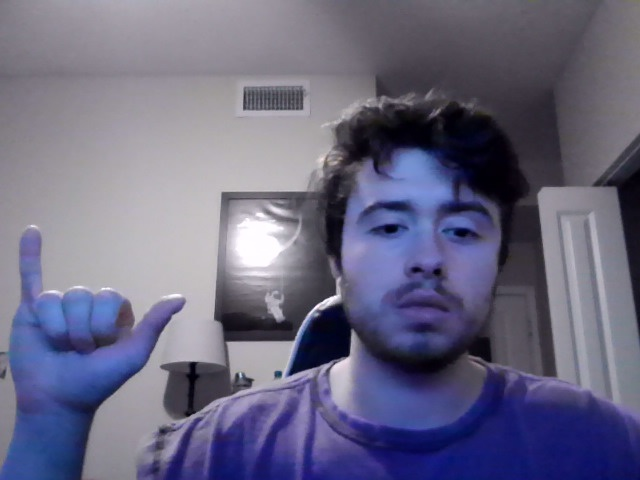y: (8, 224, 187, 433)
